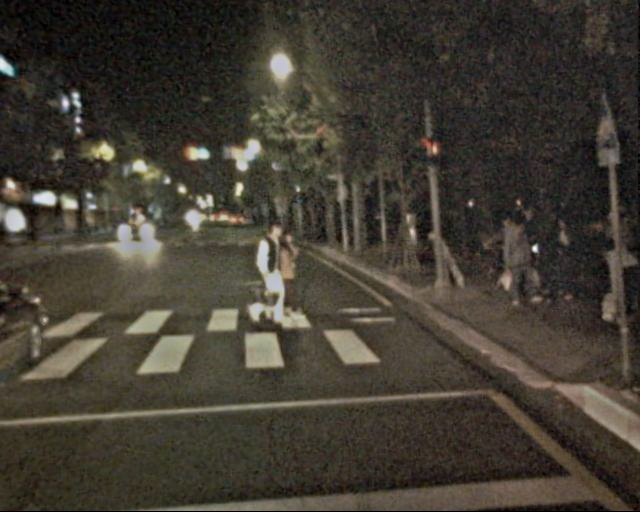person: (247, 220, 293, 331), (497, 210, 544, 298), (596, 231, 637, 330), (539, 212, 579, 310), (269, 230, 309, 328)
